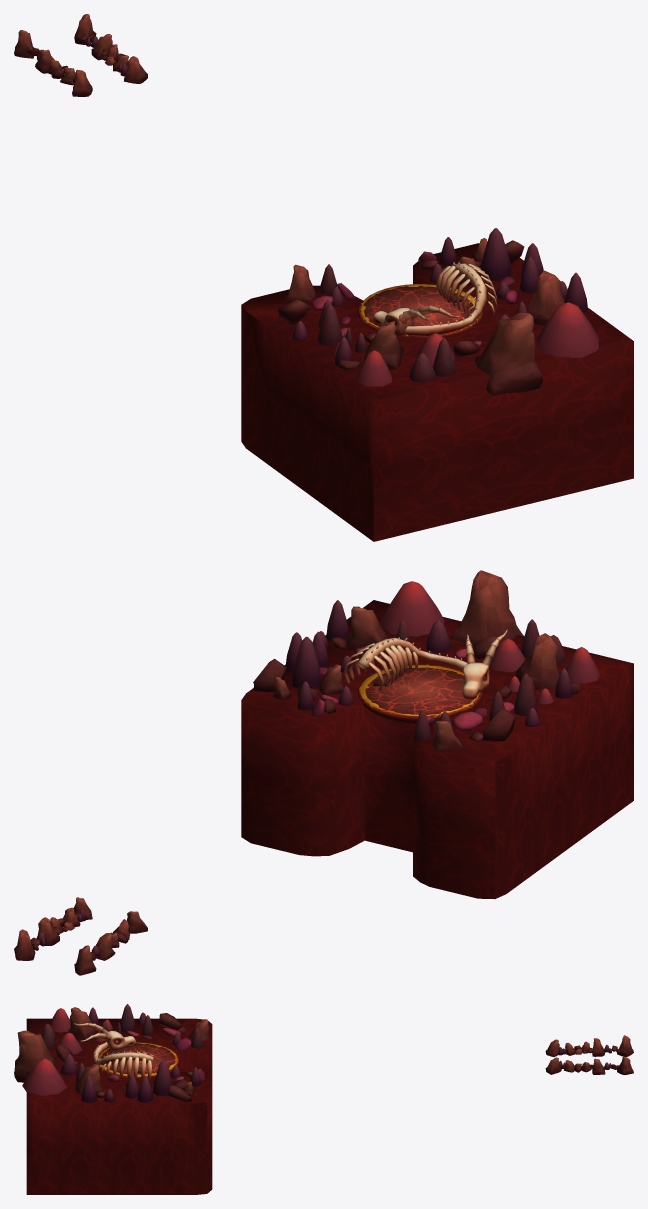
The model's file is Fire.FBX.
The picture shows the model from 3 angles, top to bottom: view 1: azimuth 30°, elevation 25°; view 2: azimuth 150°, elevation 25°; view 3: azimuth 270°, elevation 25°; orthographic projection. The views are drawn at different scales.
Parts seen in each view (by area): view 1: Fire_Landscape, Fire_Fence_L, Fire_Fence_R; view 2: Fire_Landscape, Fire_Fence_L, Fire_Fence_R; view 3: Fire_Landscape, Fire_Fence_R, Fire_Fence_L.
Part boxes in pixels (bbox=[...]): Fire_Landscape: bbox=[241, 228, 633, 541]; Fire_Fence_L: bbox=[74, 14, 147, 83]; Fire_Fence_R: bbox=[14, 30, 92, 96]; Fire_Landscape: bbox=[241, 570, 633, 899]; Fire_Fence_L: bbox=[14, 897, 92, 960]; Fire_Fence_R: bbox=[74, 911, 147, 975]; Fire_Landscape: bbox=[14, 1004, 212, 1194]; Fire_Fence_R: bbox=[545, 1035, 633, 1056]; Fire_Fence_L: bbox=[545, 1056, 633, 1074].
Size of the model in its own units: 44.12 by 30.99 by 136.
1 material, 1 textured.
